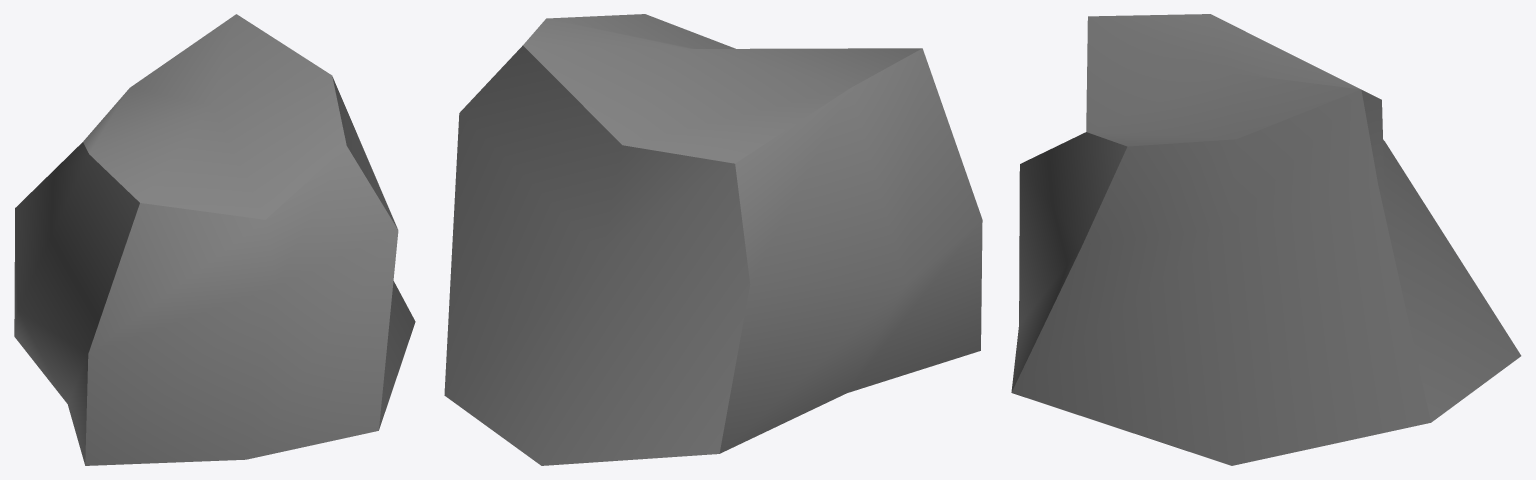
Rendered from rockgrisfonce.FBX.
The picture shows the model from 3 angles, left to right: view 1: azimuth 30°, elevation 25°; view 2: azimuth 150°, elevation 25°; view 3: azimuth 270°, elevation 25°; orthographic projection. The views are drawn at different scales.
Parts seen in each view (by area): view 1: Box006; view 2: Box006; view 3: Box006.
Boxes of the visible parts, x1,y1,x2,y2 form: Box006: [14, 14, 415, 465]; Box006: [444, 14, 982, 465]; Box006: [1011, 14, 1521, 465].
Size of the model in its own units: 15.5 by 10.93 by 16.09.
